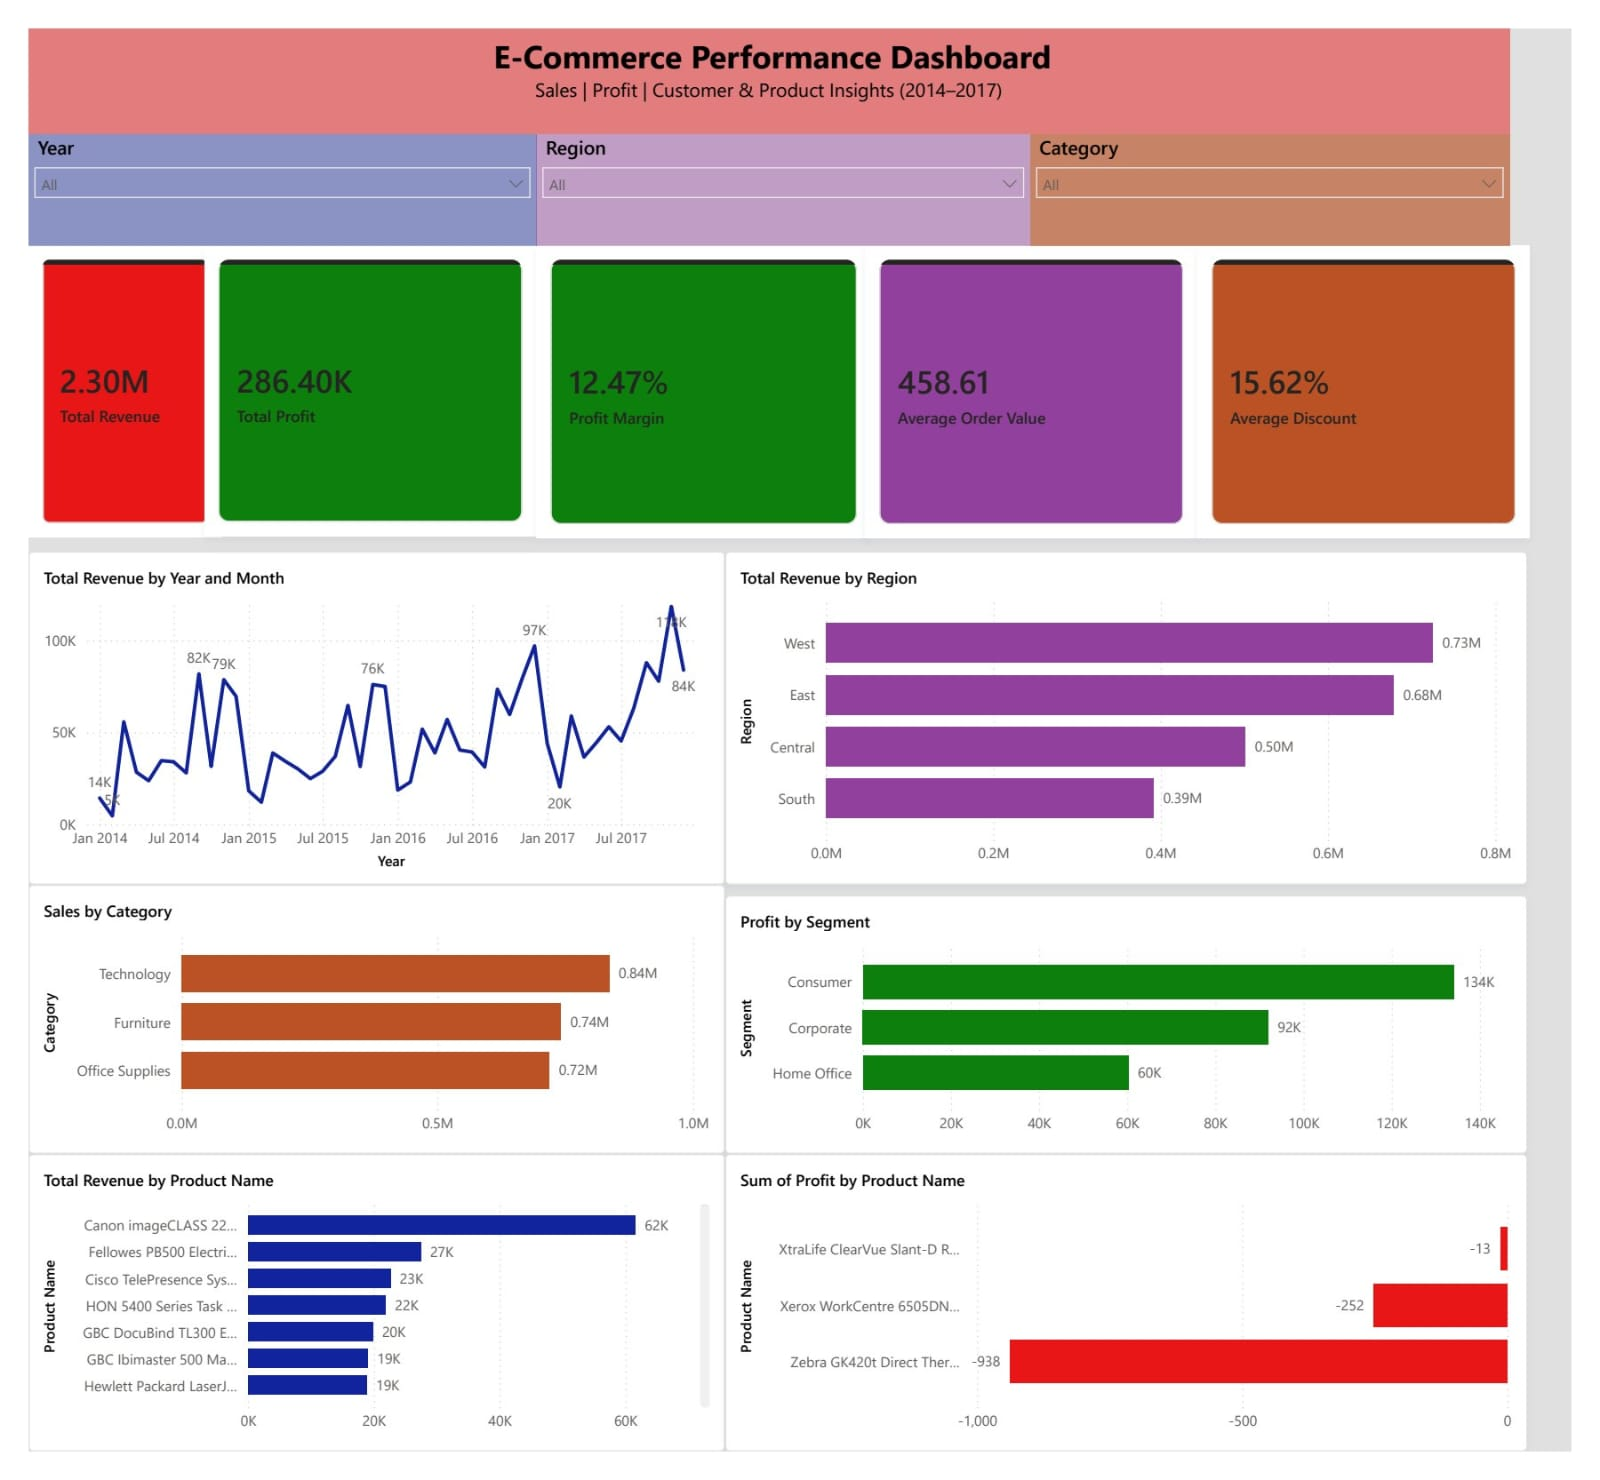

The dashboard page shown, as its layout file describes it:
{"tool":"powerbi","page":{"name":"Page 1","canvas":[1300,1200],"ordinal":0},"visuals":[{"type":"cardVisual","fields":{"Data":["superstore_clean.Total Revenue"]},"box":[0,183.3,163.6,246.5],"z":0},{"type":"cardVisual","fields":{"Data":["superstore_clean.Total Profit"]},"box":[147.5,182.5,280,245],"z":1000},{"type":"cardVisual","fields":{"Data":["superstore_clean.Profit Margin"]},"box":[427.5,182.5,282.5,247.5],"z":2000},{"type":"cardVisual","fields":{"Data":["superstore_clean.Average Order Value"]},"box":[705,182.5,280,247.5],"z":3000},{"type":"cardVisual","fields":{"Data":["superstore_clean.Average Discount"]},"box":[985,182.5,280,247.5],"z":4000},{"type":"lineChart","fields":{"Y":["superstore_clean.Total Revenue"],"Category":["superstore_clean.Order Date.Variation.Date Hierarchy.Year","superstore_clean.Order Date.Variation.Date Hierarchy.Month"]},"box":[0,440.7,586.9,281.5],"z":5000},{"type":"clusteredBarChart","fields":{"Category":["superstore_clean.Region"],"Y":["superstore_clean.Total Revenue"]},"box":[586.9,440.7,676.4,281.5],"z":6000},{"type":"clusteredBarChart","title":"Sales by Category","fields":{"Category":["superstore_clean.Category"],"Y":["superstore_clean.Total Revenue"]},"box":[0,722.2,586.9,226.9],"z":7000},{"type":"clusteredBarChart","title":"Profit by Segment","fields":{"Category":["superstore_clean.Segment"],"Y":["superstore_clean.Total Profit"]},"box":[586.9,730.9,676.4,218.2],"z":8000},{"type":"clusteredBarChart","fields":{"Category":["superstore_clean.Product Name"],"Y":["superstore_clean.Total Revenue"]},"box":[0,949.1,586.9,250.9],"z":9000},{"type":"clusteredBarChart","fields":{"Category":["superstore_clean.Product Name"],"Y":["Sum(superstore_clean.Profit)"]},"box":[586.9,949.1,676.4,250.9],"z":10000},{"type":"slicer","fields":{"Values":["superstore_clean.Year"]},"box":[0,89.5,427.6,93.8],"z":11000},{"type":"slicer","fields":{"Values":["superstore_clean.Region"]},"box":[427.6,89.5,416.7,93.8],"z":12000},{"type":"slicer","fields":{"Values":["superstore_clean.Category"]},"box":[844.4,89.5,403.6,93.8],"z":13000},{"type":"textbox","box":[0,0,1248,89.5],"z":14000}]}

Visuals, with their boxes in screenshot pixels (x1, y1, x2, y2), scaled from the page's 1300x1200 canvas onto the 1600x1480 screenshot:
cardVisual - superstore_clean.Total Revenue: rect(0, 226, 201, 530)
cardVisual - superstore_clean.Total Profit: rect(182, 225, 526, 527)
cardVisual - superstore_clean.Profit Margin: rect(526, 225, 874, 530)
cardVisual - superstore_clean.Average Order Value: rect(868, 225, 1212, 530)
cardVisual - superstore_clean.Average Discount: rect(1212, 225, 1557, 530)
lineChart - superstore_clean.Total Revenue x superstore_clean.Order Date.Variation.Date Hierarchy.Year: rect(0, 544, 722, 891)
clusteredBarChart - superstore_clean.Region x superstore_clean.Total Revenue: rect(722, 544, 1555, 891)
"Sales by Category" clusteredBarChart: rect(0, 891, 722, 1171)
"Profit by Segment" clusteredBarChart: rect(722, 901, 1555, 1171)
clusteredBarChart - superstore_clean.Product Name x superstore_clean.Total Revenue: rect(0, 1171, 722, 1479)
clusteredBarChart - superstore_clean.Product Name x Sum(superstore_clean.Profit): rect(722, 1171, 1555, 1479)
slicer - superstore_clean.Year: rect(0, 110, 526, 226)
slicer - superstore_clean.Region: rect(526, 110, 1039, 226)
slicer - superstore_clean.Category: rect(1039, 110, 1536, 226)
textbox: rect(0, 0, 1536, 110)
